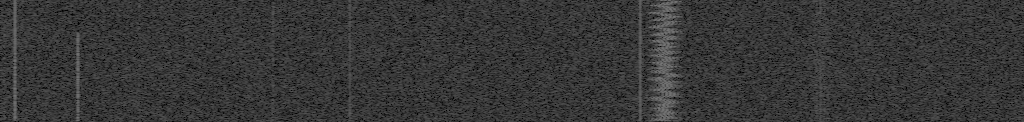wv_am: (12, 0, 18, 121), (348, 0, 352, 121)
wv_cw: (638, 0, 643, 121)
wv_lsb: (2, 75, 7, 121), (271, 48, 275, 93), (2, 29, 7, 62), (271, 2, 276, 35), (270, 94, 275, 113), (2, 63, 6, 72), (271, 39, 275, 47), (271, 114, 275, 121)
wv_usb: (75, 31, 81, 121), (137, 64, 142, 116), (137, 2, 142, 14), (137, 15, 142, 25), (137, 51, 141, 63), (138, 35, 141, 44), (138, 26, 141, 34)
wv_wbfm: (643, 0, 687, 121), (803, 0, 837, 121)
